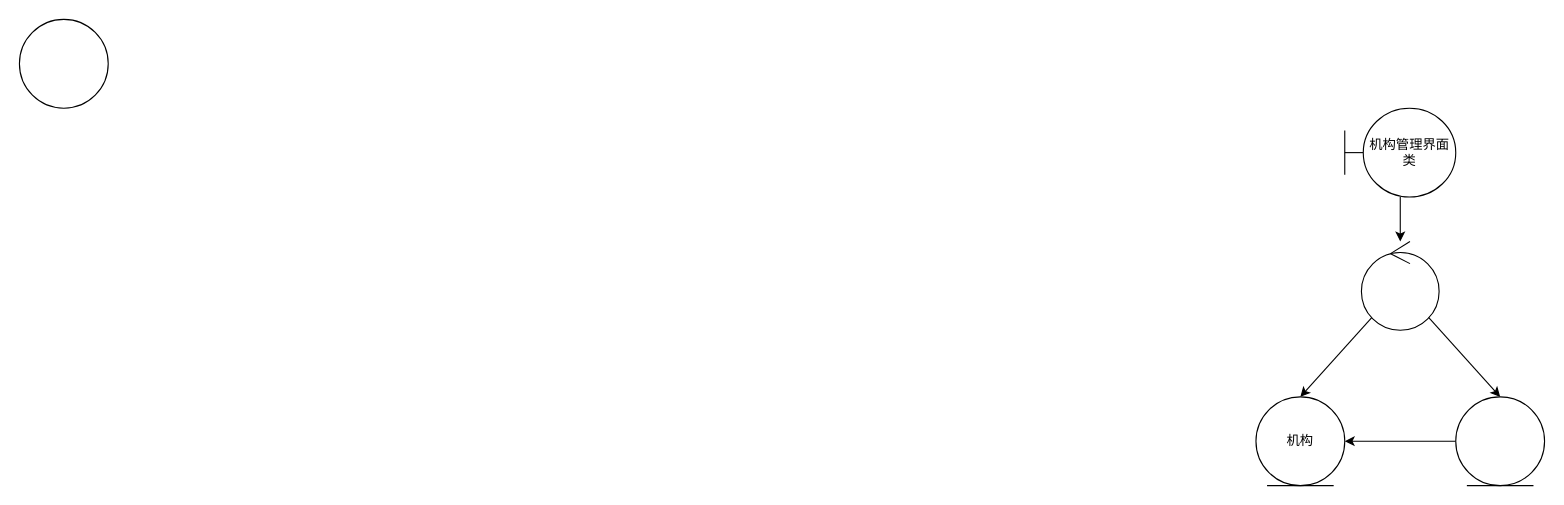
The diagram is 1564 pixels wide and 505 high, and some of its shapes have lost their labels. The shapes that lost their labels are listed below. From the top down, each one's centre as x and y in pixels, then its label:
[1399,285]: 机构控制类
[1500,441]: 管理员
